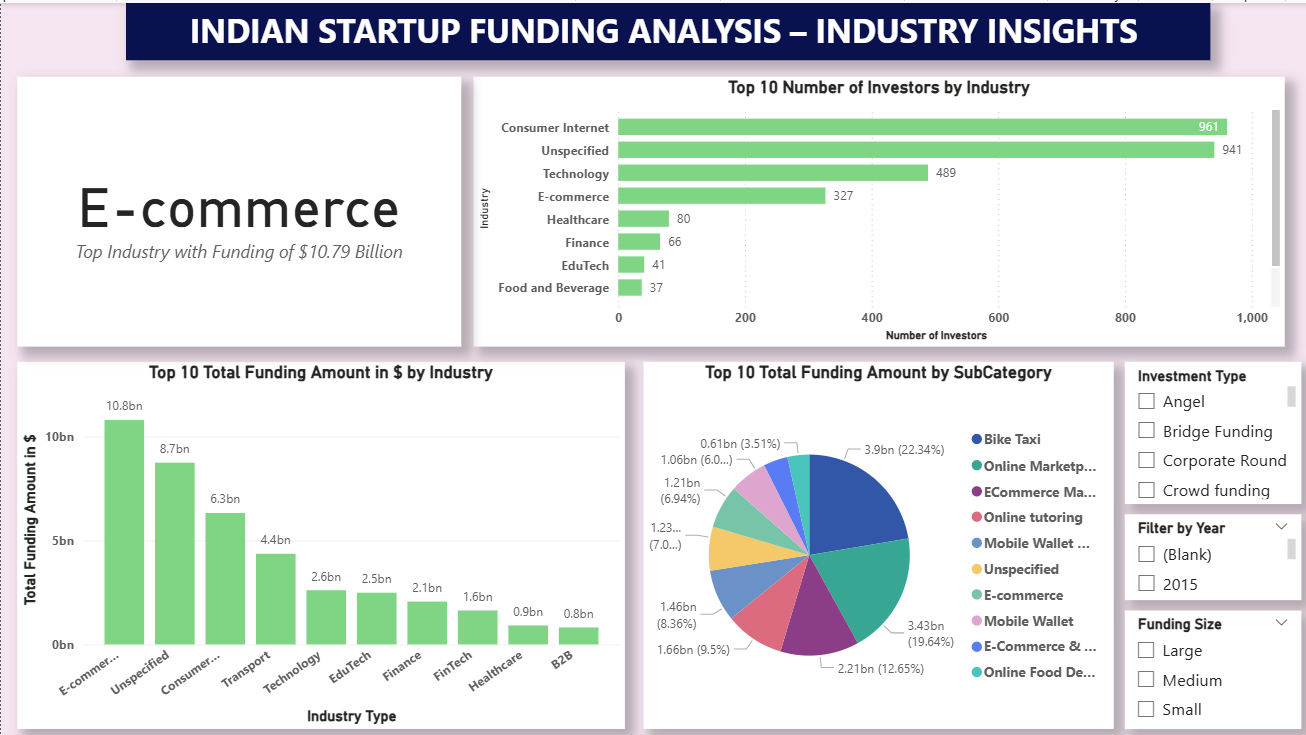

Layout of this report page (visuals, bound fields, positions):
{"tool":"powerbi","page":{"name":"Industry Insights","canvas":[1280,720],"ordinal":1},"visuals":[{"type":"textbox","box":[122.1,0,1060.7,56.3],"z":0},{"type":"columnChart","title":"Top 10 Total Funding Amount in $ by Industry","fields":{"Category":["indian_startup_funding csv.Industry"],"Y":["Sum(indian_startup_funding csv.Amount in USD)"]},"box":[15.9,351,594.3,359.5],"z":1000},{"type":"barChart","title":"Top 10 Number of Investors by Industry","fields":{"Category":["indian_startup_funding csv.Industry"],"Y":["CountNonNull(indian_startup_funding csv.Investors)"]},"box":[462.2,72.1,793.6,264.1],"z":2000},{"type":"card","fields":{"Values":["Min(indian_startup_funding csv.Industry)"]},"box":[15.4,72.7,434.6,264.1],"z":3000},{"type":"pieChart","title":"Top 10 Total Funding Amount by SubCategory","fields":{"Category":["indian_startup_funding csv.SubCategory"],"Y":["Sum(indian_startup_funding csv.Amount in USD)"]},"box":[628.5,351,459.8,359.5],"z":4000},{"type":"slicer","fields":{"Values":["indian_startup_funding csv.Investment Type"]},"box":[1099.3,351,172.4,139.4],"z":5000},{"type":"slicer","fields":{"Values":["indian_startup_funding csv.Date.Variation.Date Hierarchy.Year"]},"box":[1099.3,500.1,172.4,84.4],"z":6000},{"type":"slicer","fields":{"Values":["indian_startup_funding csv.Funding Size"]},"box":[1099.3,594.3,172.4,116.2],"z":7000}]}

Visuals, with their boxes in screenshot pixels (x1, y1, x2, y2), scaled from the page's 1280x720 canvas onto the 1306x735 screenshot:
textbox: bbox=(125, 0, 1207, 57)
"Top 10 Total Funding Amount in $ by Industry" columnChart: bbox=(16, 358, 623, 725)
"Top 10 Number of Investors by Industry" barChart: bbox=(472, 74, 1281, 343)
card - Min(indian_startup_funding csv.Industry): bbox=(16, 74, 459, 344)
"Top 10 Total Funding Amount by SubCategory" pieChart: bbox=(641, 358, 1110, 725)
slicer - indian_startup_funding csv.Investment Type: bbox=(1122, 358, 1298, 501)
slicer - indian_startup_funding csv.Date.Variation.Date Hierarchy.Year: bbox=(1122, 511, 1298, 597)
slicer - indian_startup_funding csv.Funding Size: bbox=(1122, 607, 1298, 725)
